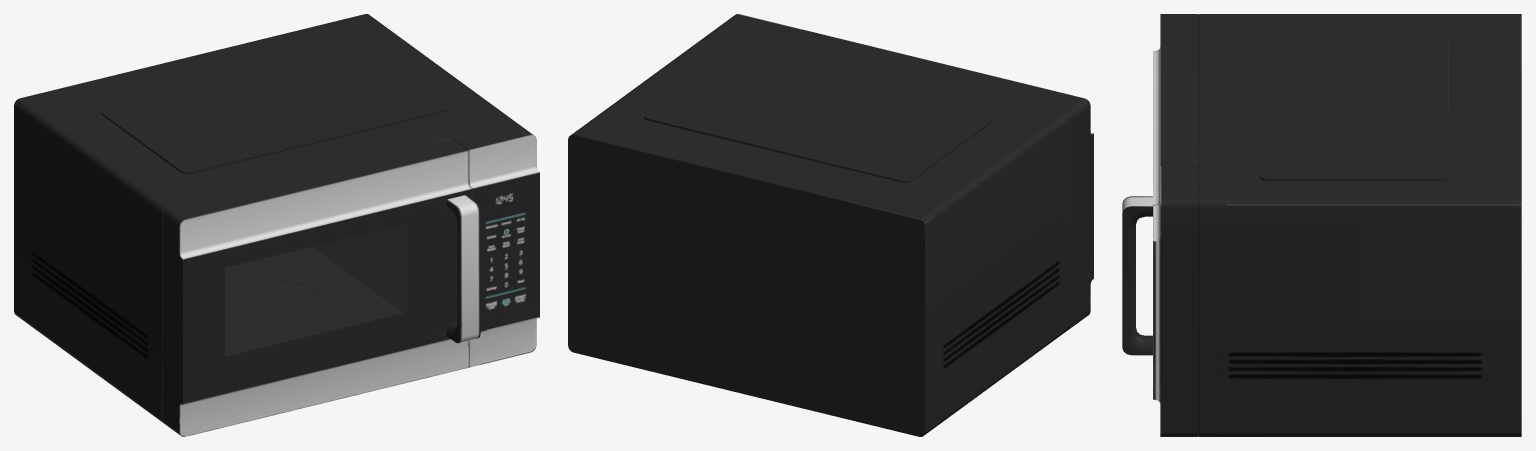
The model's file is microondas.glb.
The picture shows the model from 3 angles, left to right: view 1: azimuth 30°, elevation 25°; view 2: azimuth 150°, elevation 25°; view 3: azimuth 270°, elevation 25°; orthographic projection. The views are drawn at different scales.
Visible parts, largest first — view 1: defaultMaterial; view 2: defaultMaterial; view 3: defaultMaterial.
Boxes of the visible parts, x1,y1,x2,y2 form: defaultMaterial: (14, 14, 539, 436); defaultMaterial: (568, 14, 1093, 436); defaultMaterial: (1122, 14, 1521, 436).
Size of the model in its own units: 55 by 34.23 by 48.84.
Materials: 1 (1 with a texture image).
